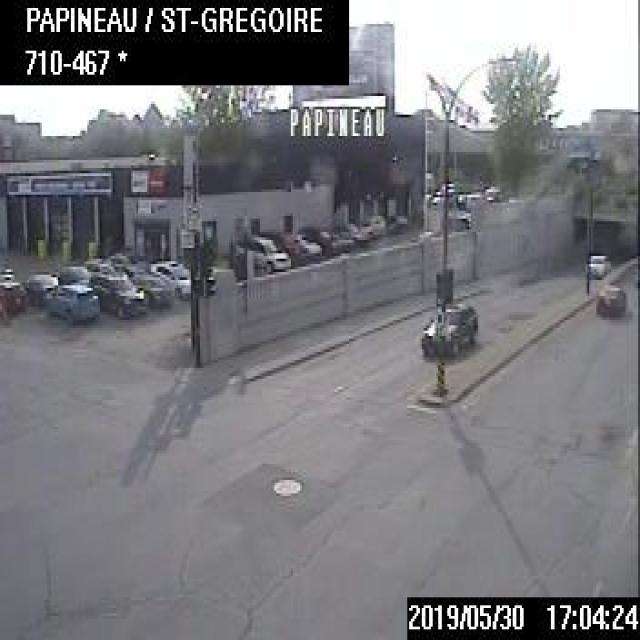vehicle: (418, 299, 478, 357), (40, 279, 100, 320), (91, 271, 145, 316), (236, 231, 290, 269), (150, 258, 190, 298), (132, 266, 172, 304), (26, 270, 57, 305), (285, 231, 320, 261), (592, 282, 624, 314), (0, 280, 27, 312), (359, 213, 388, 242), (52, 262, 90, 282), (84, 257, 115, 279), (587, 248, 609, 277)
